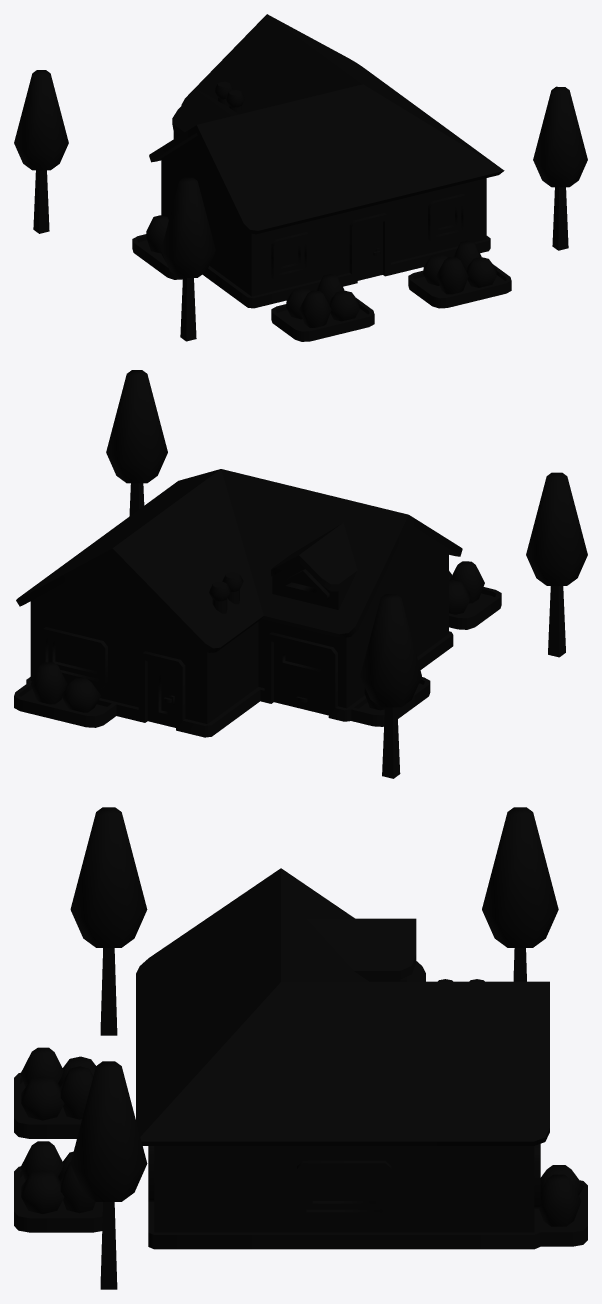
File: garden.glb
3 renders of one model, top to bottom at view 1: azimuth 30°, elevation 25°; view 2: azimuth 150°, elevation 25°; view 3: azimuth 270°, elevation 25°, orthographic. The views are drawn at different scales.
Parts seen in each view (by area): view 1: building-type-m; view 2: building-type-m; view 3: building-type-m.
Part boxes in pixels (x1,y1,x2,y2): building-type-m: (14, 14, 587, 341); building-type-m: (14, 370, 587, 778); building-type-m: (14, 807, 587, 1289).
Bounding box in the file's own units: 2.11 × 0.767 × 1.81.
Materials: 1 (1 with a texture image).
